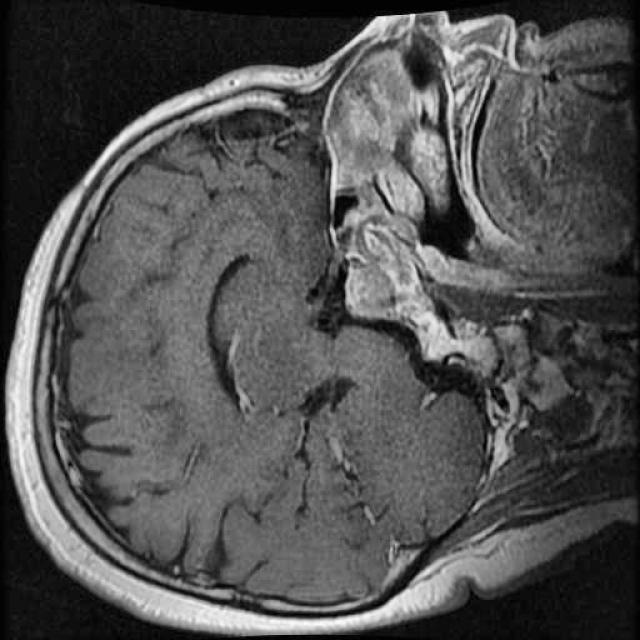Tumor: (331, 253, 412, 330)
